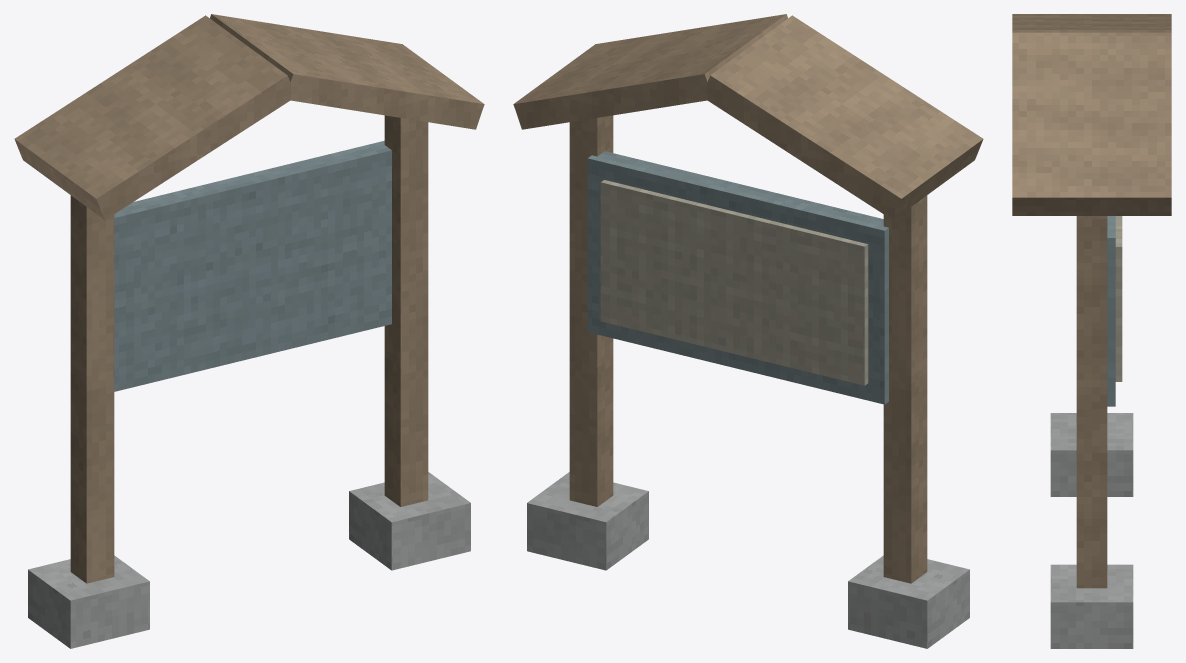
File: level_blockout_camp_ranger_kiosk.glb
The picture shows the model from 3 angles, left to right: view 1: azimuth 30°, elevation 25°; view 2: azimuth 150°, elevation 25°; view 3: azimuth 270°, elevation 25°; orthographic projection. The views are drawn at different scales.
Visible parts, largest first — view 1: level_blockout_camp_ranger_kiosk; view 2: level_blockout_camp_ranger_kiosk; view 3: level_blockout_camp_ranger_kiosk.
Boxes of the visible parts, x1,y1,x2,y2 form: level_blockout_camp_ranger_kiosk: [14, 14, 484, 648]; level_blockout_camp_ranger_kiosk: [513, 14, 983, 648]; level_blockout_camp_ranger_kiosk: [1012, 14, 1171, 648].
Bounding box in the file's own units: 2.17 × 2.8 × 0.77.
4 materials, 4 textured.
